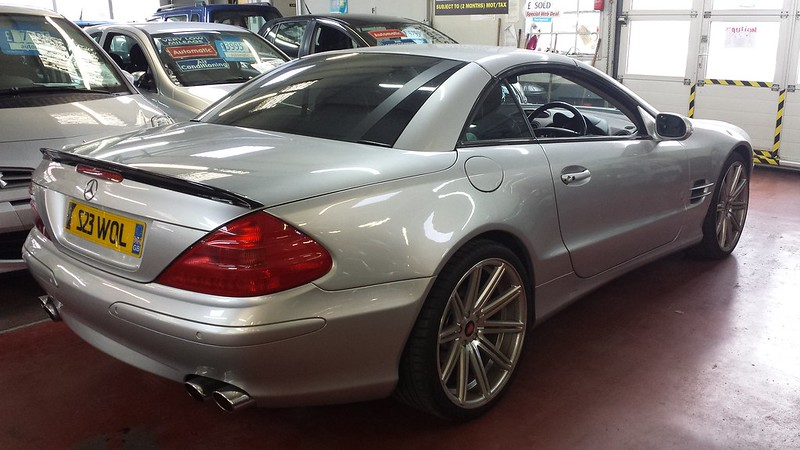number_plate: (53, 191, 152, 267)
